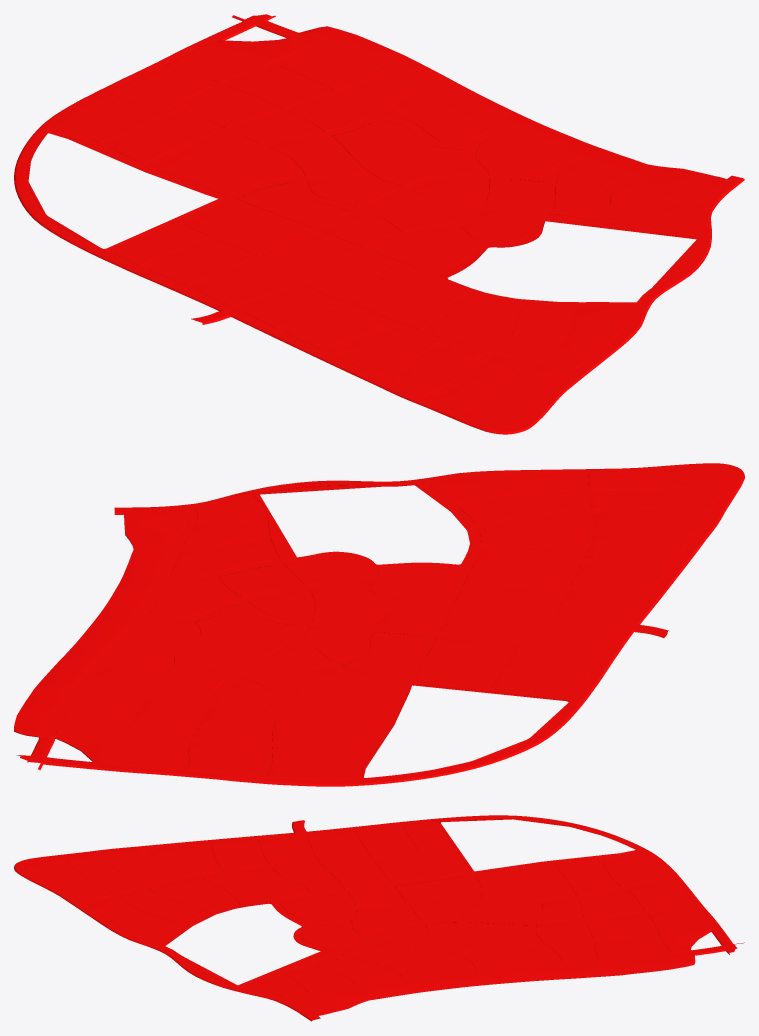
Rendered from boden_stadt_colmesh.fbx.
3 views of the same model, one above another, from view 1: azimuth 30°, elevation 25°; view 2: azimuth 150°, elevation 25°; view 3: azimuth 270°, elevation 25° (orthographic). The views are drawn at different scales.
Visible parts, largest first — view 1: Mesh; view 2: Mesh; view 3: Mesh.
Part boxes in pixels (left/top/right/bottom): Mesh: left=14, top=14, right=744, bottom=434; Mesh: left=14, top=463, right=744, bottom=786; Mesh: left=14, top=815, right=744, bottom=1021.
Size of the model in its own units: 39116 by 114 by 58684.
